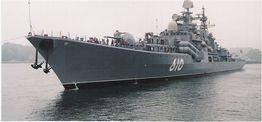warship: (22, 1, 248, 89)
